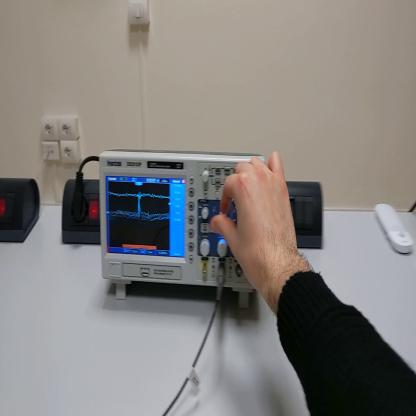hand: (210, 151, 301, 290)
oscilloscope: (101, 149, 270, 308)
socket: (1, 176, 42, 244), (62, 180, 102, 247)
